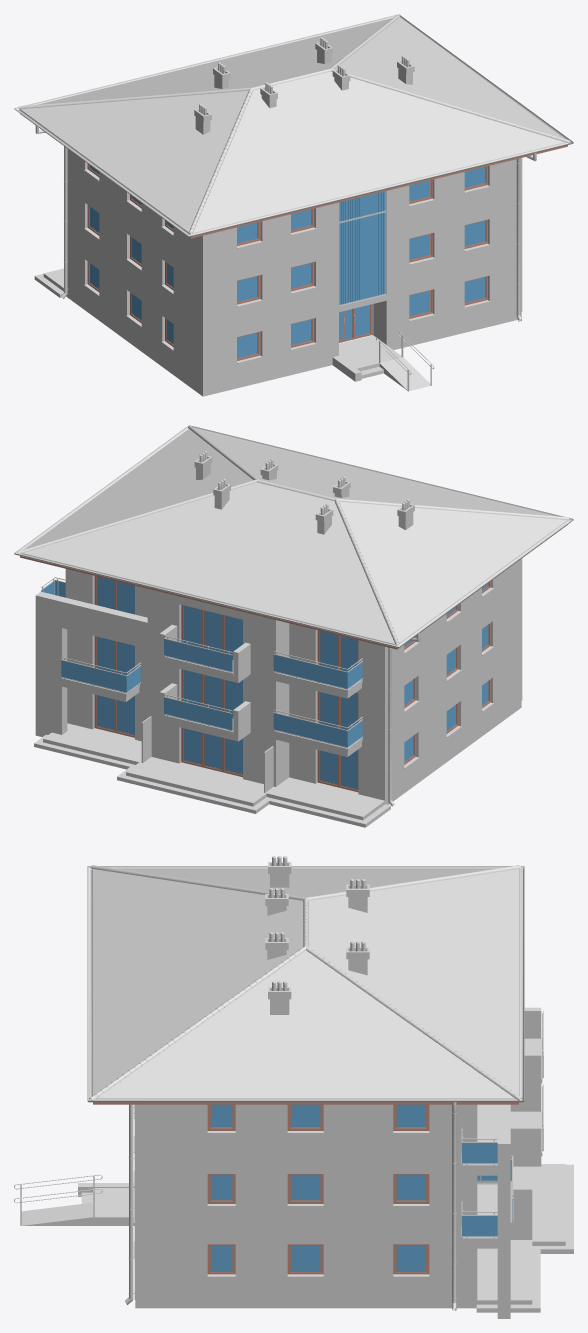
The model's file is building_construction.fbx.
3 views of the same model, one above another, from view 1: azimuth 30°, elevation 25°; view 2: azimuth 150°, elevation 25°; view 3: azimuth 270°, elevation 25° (orthographic). The views are drawn at different scales.
Parts seen in each view (by area): view 1: roof, building, window.029, window_front, gutters.000, cover_roof.003, terrace, chimney.005, gutters.002, window.039, wood_balls; view 2: roof, building, window.029, terrace, barrels, balcony, gutters.000, cover_roof.003, chimney.005, balcony_cover, wood_balls, split (+1 smaller); view 3: roof, building, terrace, window.029, gutters.000, balcony, cover_roof.003, chimney.005, barrels, gutters.002, wood_balls, split (+2 smaller).
Boxes of the visible parts, <box> form: roof: <box>21,18,564,233</box>; building: <box>66,149,522,396</box>; window.029: <box>84,164,489,363</box>; window_front: <box>339,191,386,305</box>; gutters.000: <box>14,14,573,237</box>; cover_roof.003: <box>18,14,570,233</box>; terrace: <box>34,268,430,390</box>; chimney.005: <box>194,37,414,134</box>; gutters.002: <box>35,125,536,321</box>; window.039: <box>339,304,372,342</box>; wood_balls: <box>20,114,567,238</box>; roof: <box>23,429,566,644</box>; building: <box>35,558,522,804</box>; window.029: <box>94,576,493,792</box>; terrace: <box>34,723,390,827</box>; barrels: <box>40,577,362,748</box>; balcony: <box>62,624,361,756</box>; gutters.000: <box>14,425,573,648</box>; cover_roof.003: <box>17,425,569,644</box>; chimney.005: <box>194,451,414,534</box>; balcony_cover: <box>61,656,362,751</box>; wood_balls: <box>20,524,567,649</box>; split: <box>141,716,273,792</box>; roof: <box>93,868,518,1098</box>; building: <box>134,1104,510,1318</box>; terrace: <box>21,1164,573,1312</box>; window.029: <box>133,1104,429,1277</box>; gutters.000: <box>87,866,524,1102</box>; balcony: <box>464,1007,541,1248</box>; cover_roof.003: <box>89,865,522,1100</box>; chimney.005: <box>265,856,369,1014</box>; barrels: <box>461,1010,543,1239</box>; gutters.002: <box>125,1102,456,1310</box>; wood_balls: <box>93,1102,518,1104</box>; split: <box>510,1189,532,1239</box>.
Size of what is drawn, in the model's own units: 1998 by 1314 by 2015.
